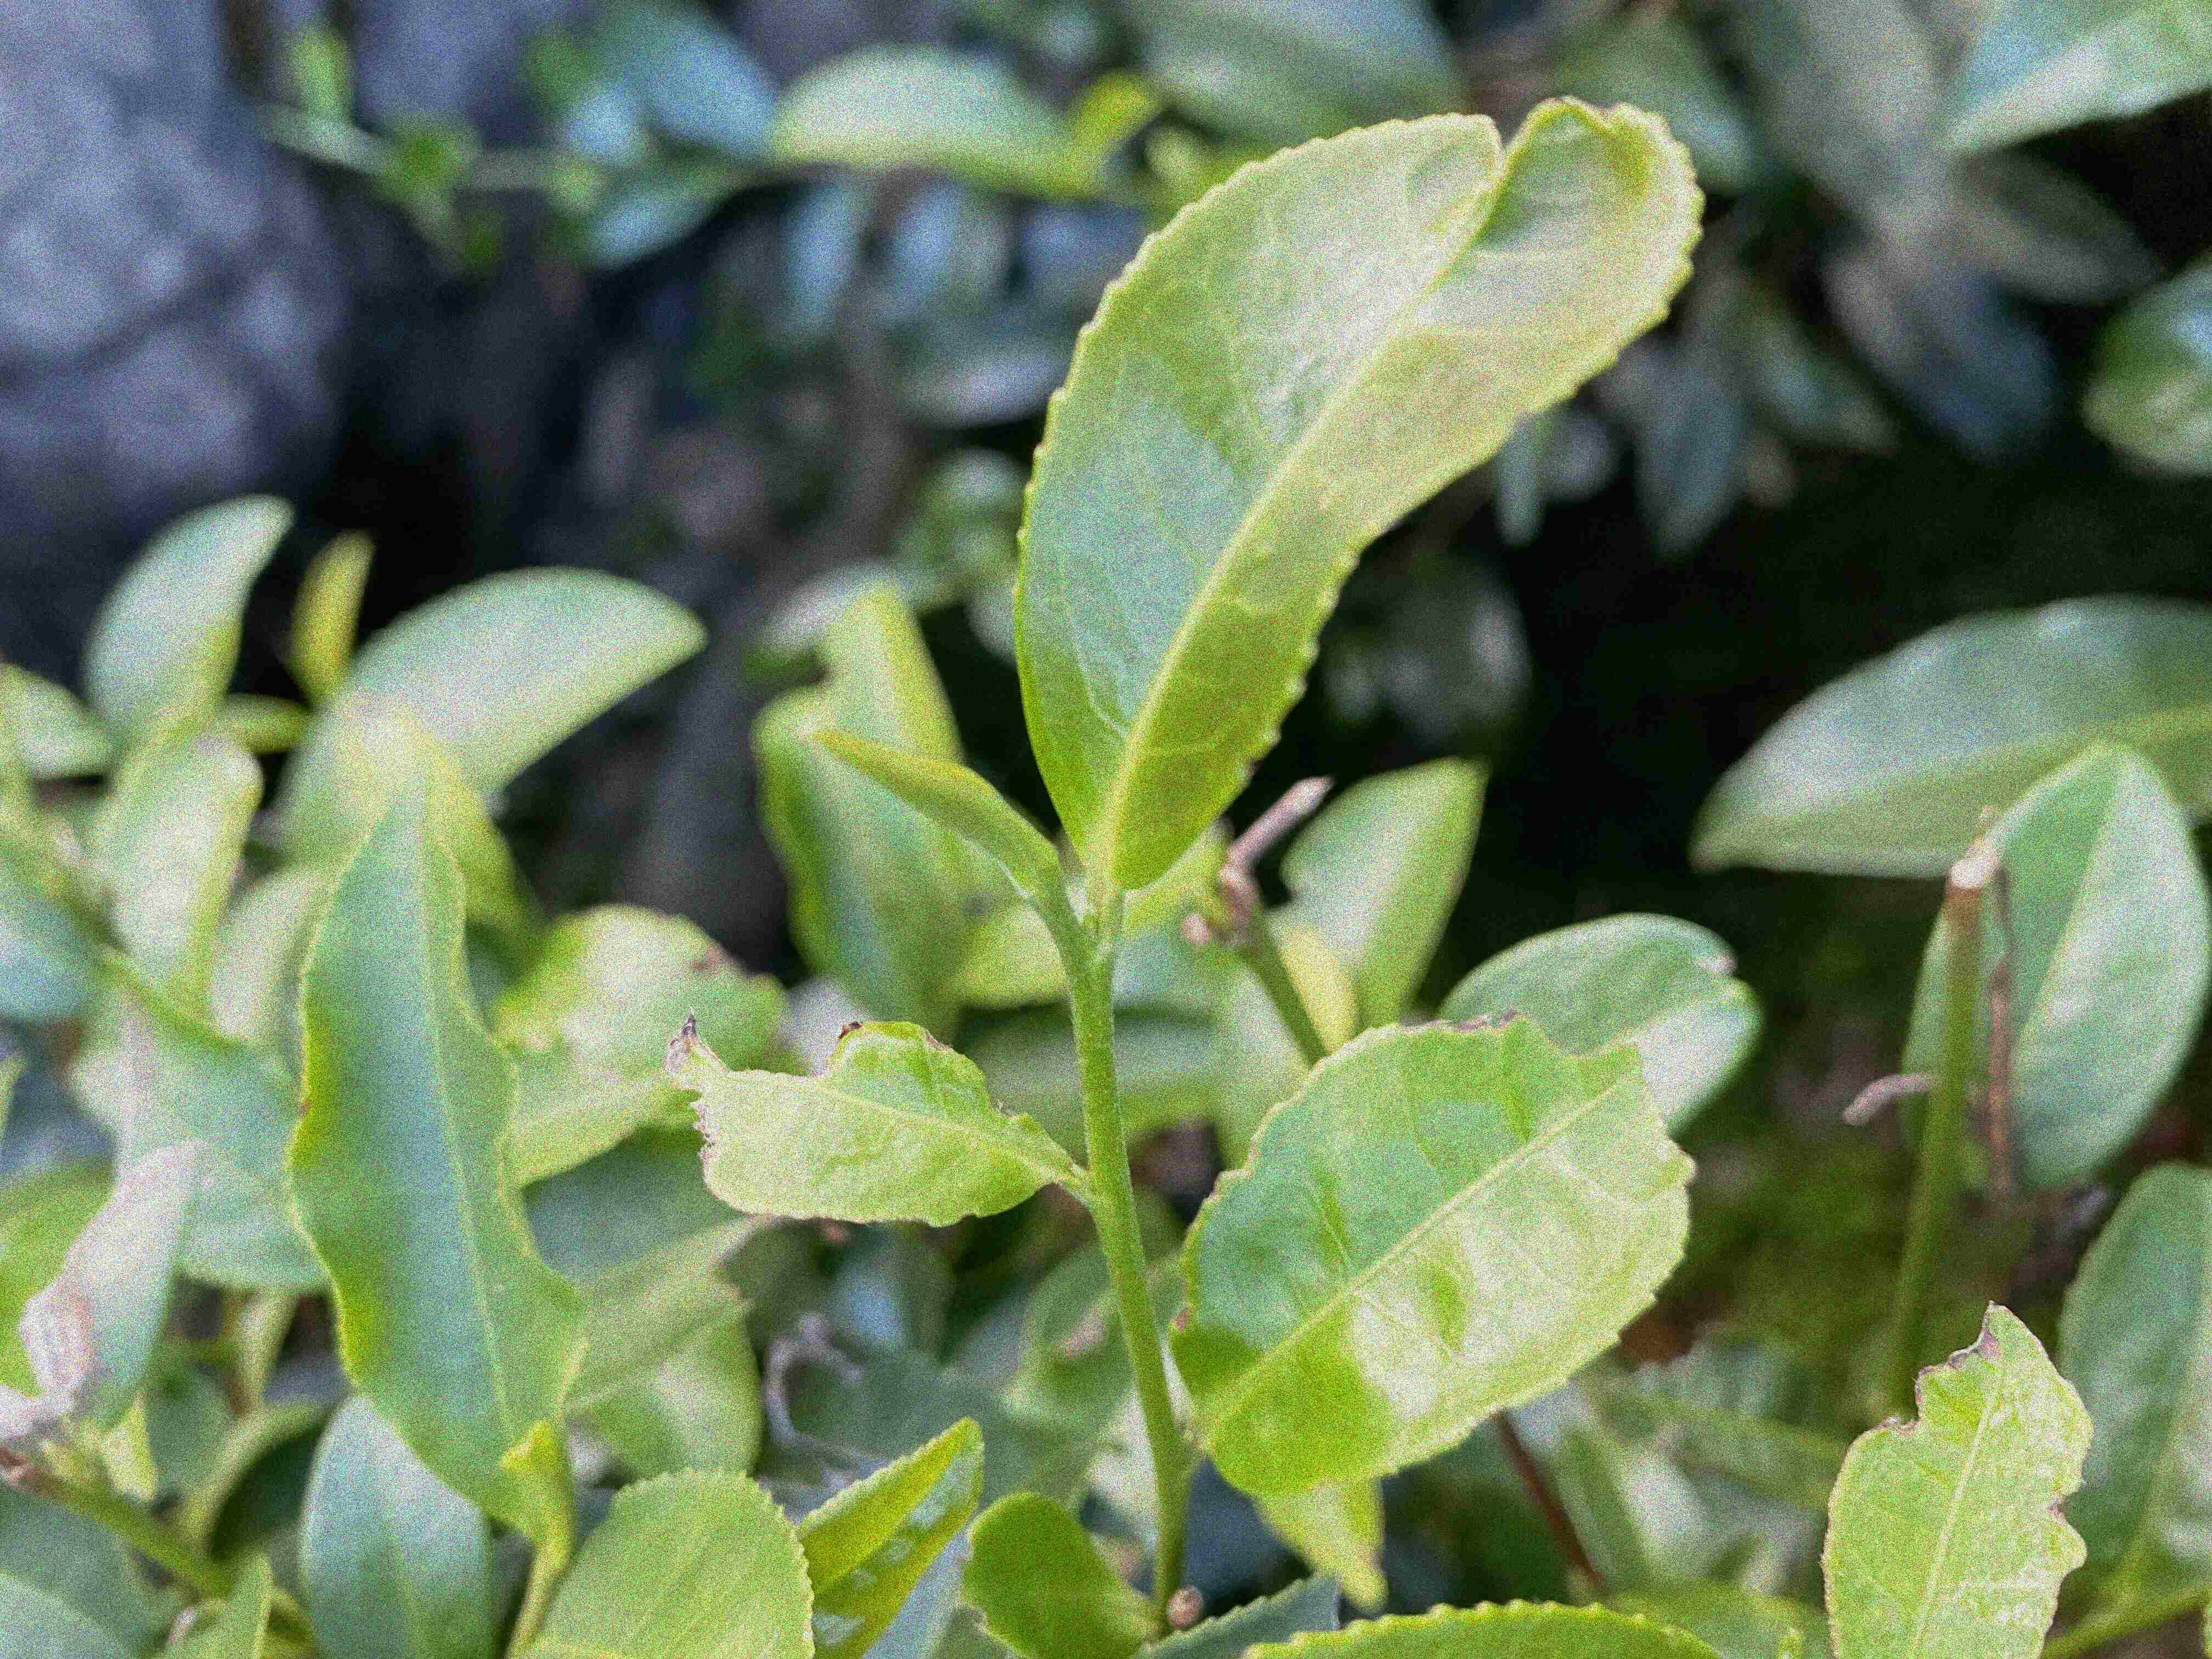chihuo_high: (1169, 1006, 1702, 1497), (1815, 1298, 2101, 1657), (662, 1007, 1071, 1229)
healthy: (1010, 96, 1705, 892)
